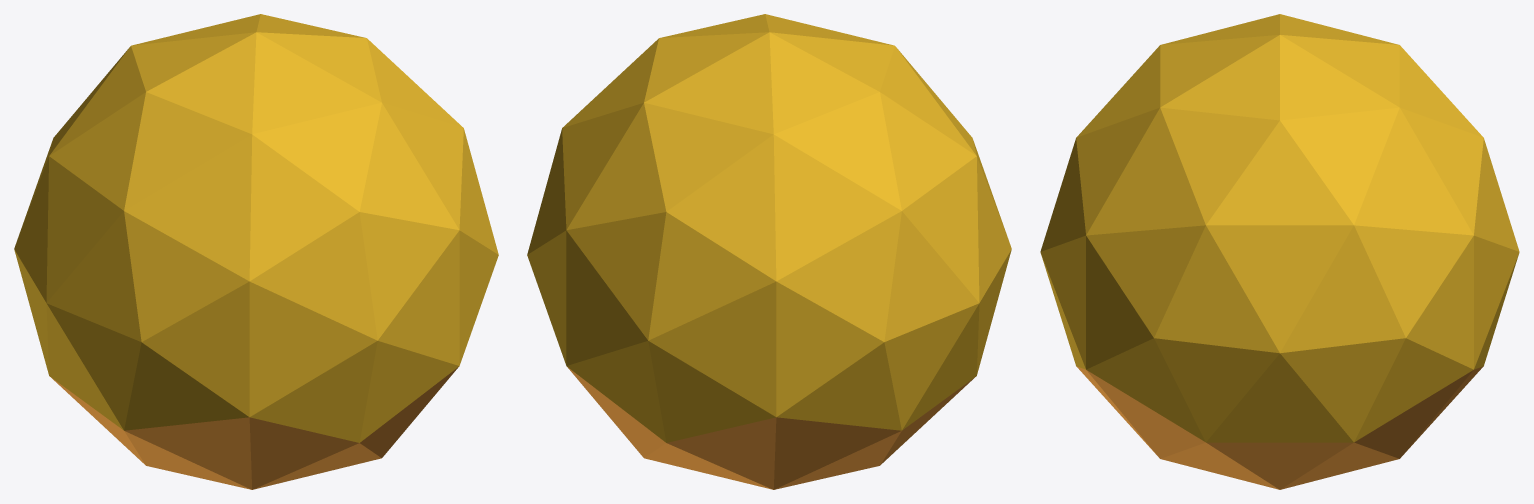
Rendered from wait.glb.
3 renders of one model, left to right at view 1: azimuth 30°, elevation 25°; view 2: azimuth 150°, elevation 25°; view 3: azimuth 270°, elevation 25°, orthographic.
Visible parts, largest first — view 1: wait; view 2: wait; view 3: wait.
Boxes of the visible parts, x1,y1,x2,y2 form: wait: [14, 14, 498, 489]; wait: [527, 14, 1011, 489]; wait: [1040, 14, 1519, 489].
Bounding box in the file's own units: 0.88 × 0.88 × 0.88.
1 material, 1 textured.
